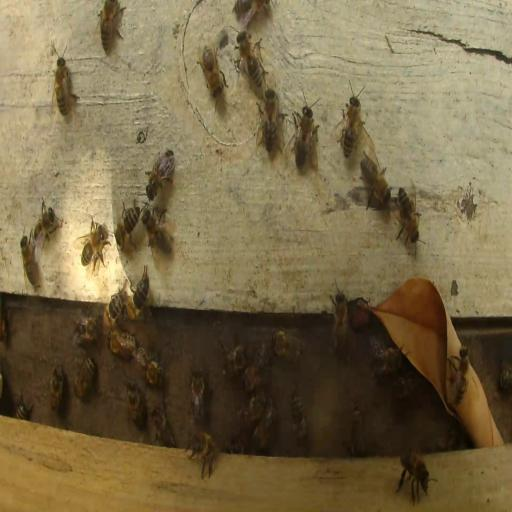nonpollenbee: (396, 448, 432, 502), (29, 196, 63, 250), (294, 101, 318, 171), (395, 185, 421, 249), (186, 428, 218, 480), (52, 50, 76, 119), (235, 34, 265, 88), (145, 149, 174, 200), (360, 160, 392, 204), (339, 94, 361, 158), (142, 209, 174, 253), (97, 0, 124, 52), (243, 345, 271, 393), (198, 46, 224, 96), (332, 288, 349, 363), (81, 222, 106, 269), (270, 329, 305, 362), (236, 394, 266, 432), (136, 346, 164, 386), (253, 402, 276, 450), (115, 206, 140, 250), (369, 343, 403, 375), (452, 348, 470, 406), (73, 354, 96, 398), (230, 0, 274, 23), (21, 233, 39, 289), (102, 291, 126, 331), (290, 391, 308, 444), (131, 265, 149, 317), (222, 342, 248, 378), (189, 368, 206, 422), (153, 405, 175, 446), (127, 381, 145, 430), (263, 86, 277, 148), (348, 403, 364, 456), (108, 327, 136, 357), (49, 363, 65, 414), (392, 372, 418, 402), (72, 316, 99, 344), (498, 357, 510, 392), (16, 401, 31, 419)
pollenbee: (0, 293, 10, 342)
